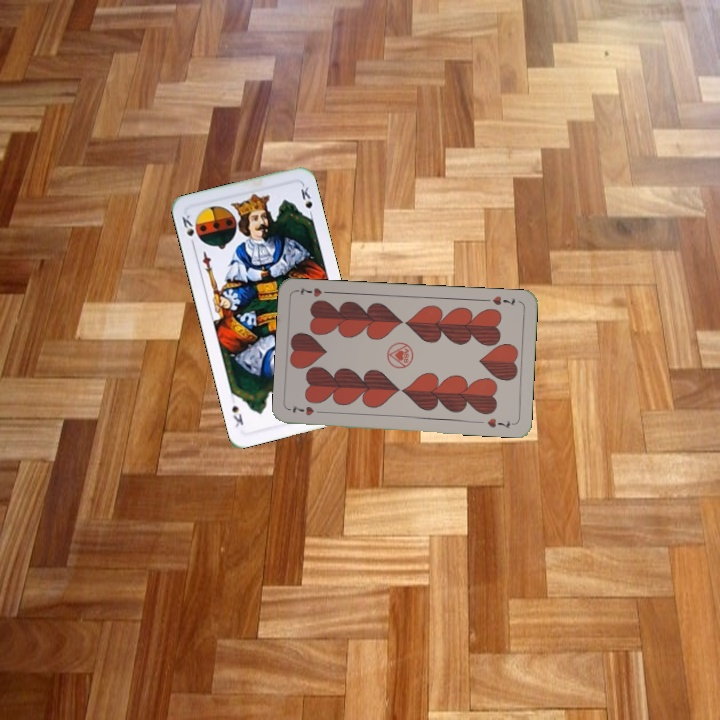H7: (287, 402, 327, 418), (481, 292, 518, 308)
SK: (178, 210, 197, 250)
